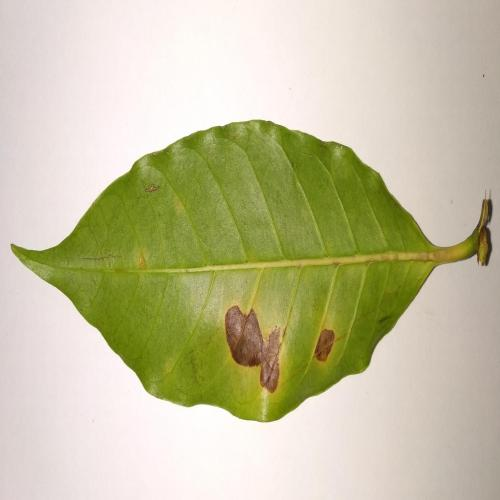cercospora: (223, 305, 286, 394)
